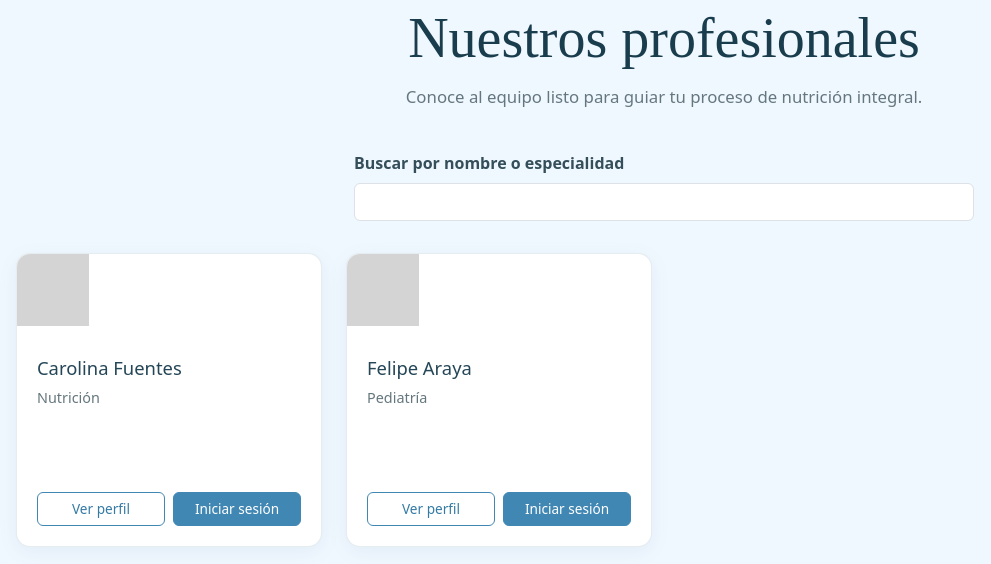
Scenario: Se comprueba que busque un profesional correctamente
Type "Carolina" into the search field labelled "Buscar por nombre o especialidad" at (664,202), box [354,183,974,221]
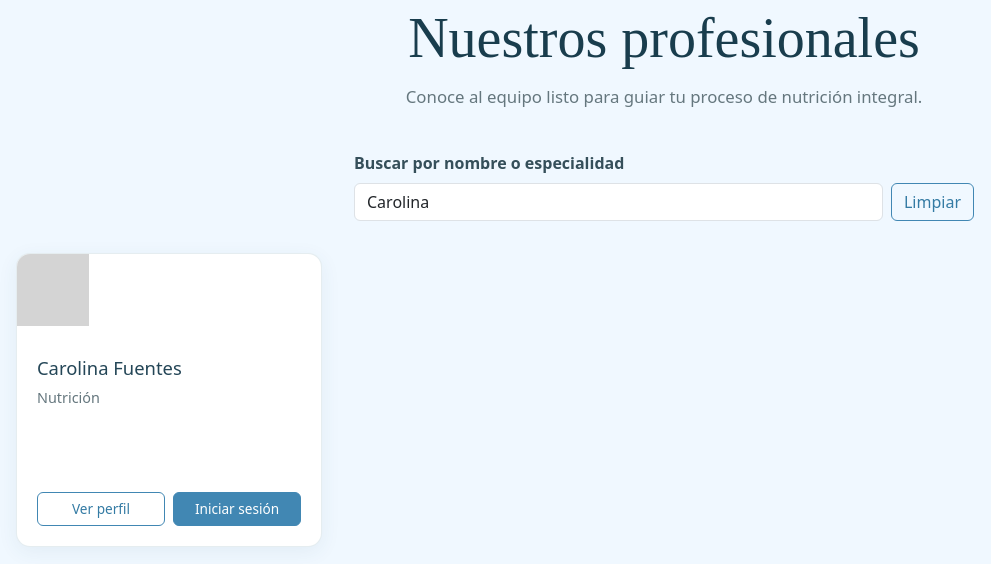
Expected: the heading "Carolina Fuentes" is shown, [37,357,182,379]
Now the heading "Felipe" is gone
